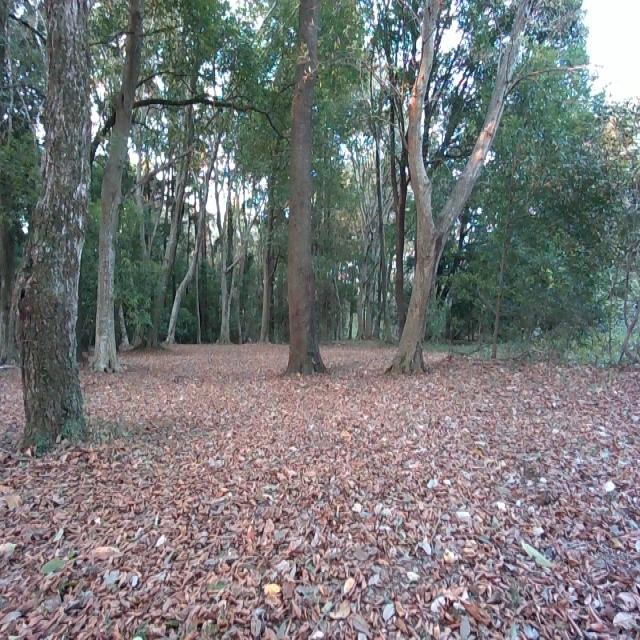bush: (479, 69, 640, 360)
tree: (375, 0, 531, 372), (9, 0, 101, 451), (86, 0, 142, 370), (280, 0, 327, 376)
